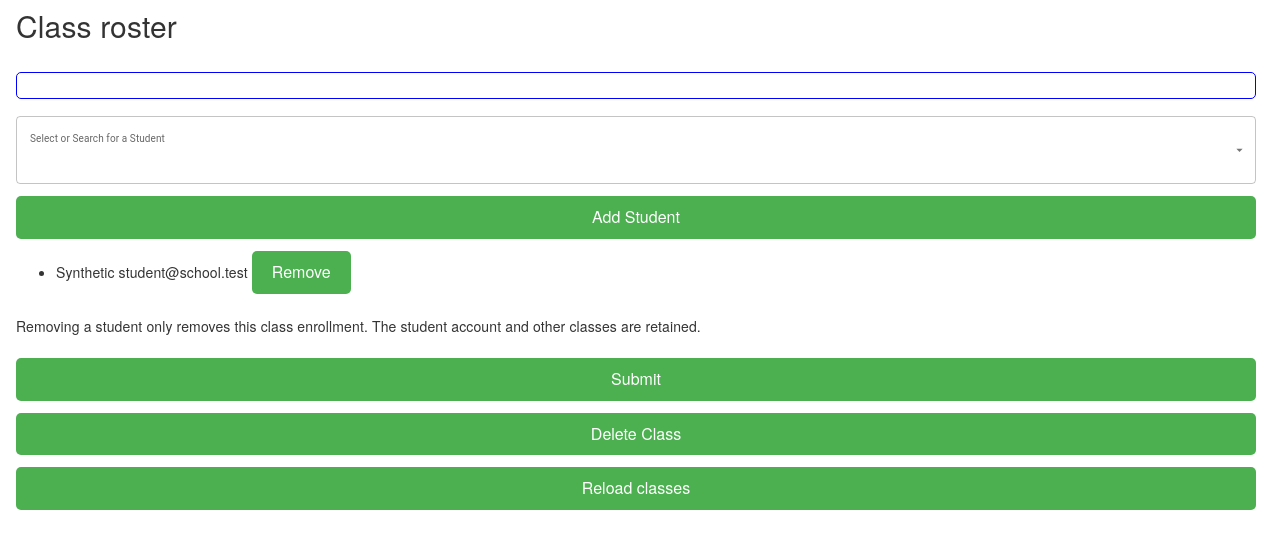
Test: class authorization rejection preserves editing state and explains failure
Expected: the list item "Synthetic student@school.test Remove" is shown, [56,251,351,294]
Click the button "Submit" at (636, 379), box [16,358,1256,400]
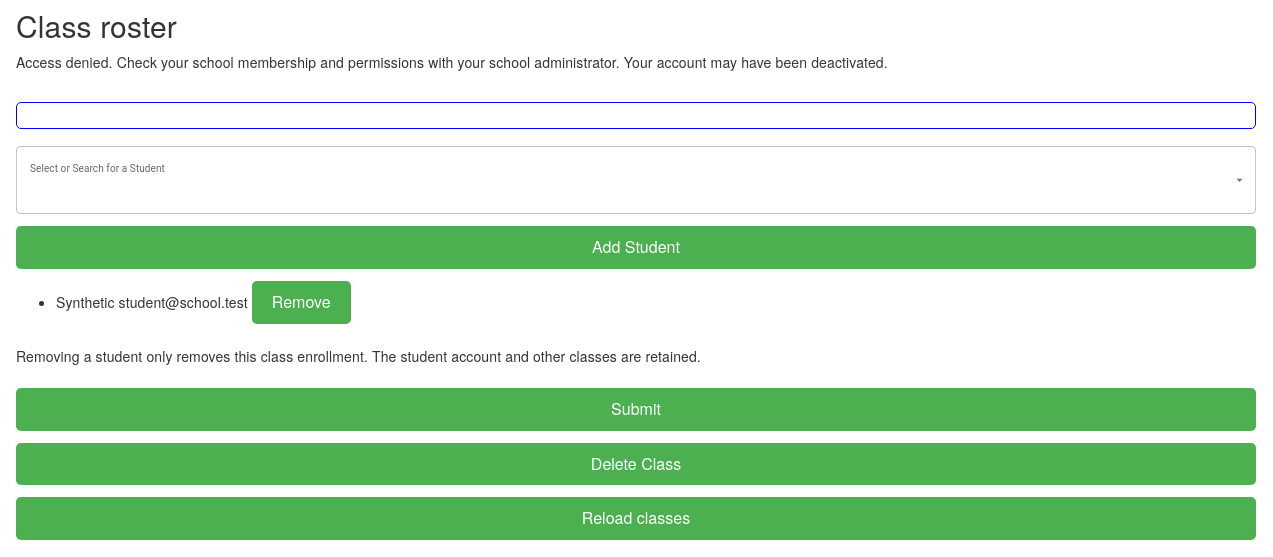
Expected: the list item "Synthetic student@school.test Remove" is shown, [56,281,351,324]
Expected: the message shows "Access denied", [16,52,888,72]
